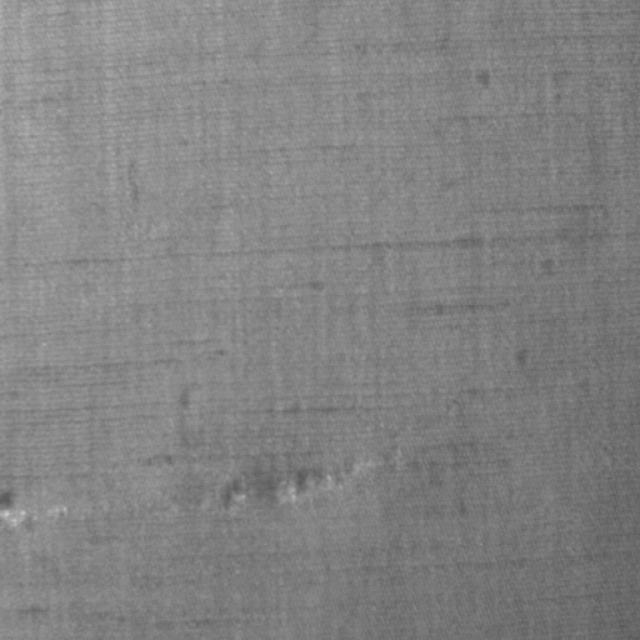thread error: (196, 456, 382, 522)
